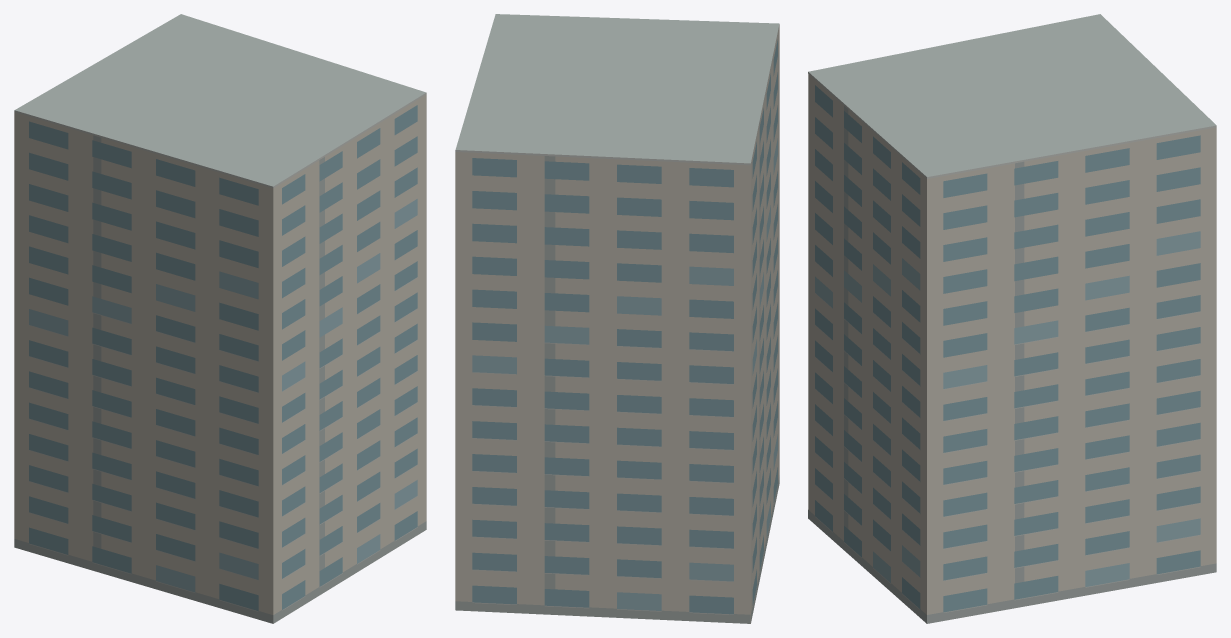
The model's file is residential-93b43789-f11a-46c6-a8ea-d5d41657f195.glb.
3 renders of one model, left to right at view 1: azimuth 30°, elevation 25°; view 2: azimuth 150°, elevation 25°; view 3: azimuth 270°, elevation 25°, orthographic. The views are drawn at different scales.
Visible parts, largest first — view 1: residential-93b43789-f11a-46c6-a8ea-d5d41657f195.tmp; view 2: residential-93b43789-f11a-46c6-a8ea-d5d41657f195.tmp; view 3: residential-93b43789-f11a-46c6-a8ea-d5d41657f195.tmp.
Boxes of the visible parts, bbox=[...] form: residential-93b43789-f11a-46c6-a8ea-d5d41657f195.tmp: bbox=[14, 14, 426, 623]; residential-93b43789-f11a-46c6-a8ea-d5d41657f195.tmp: bbox=[455, 14, 779, 623]; residential-93b43789-f11a-46c6-a8ea-d5d41657f195.tmp: bbox=[808, 14, 1216, 623].
Bounding box in the file's own units: 45.42 × 58 × 48.08.
